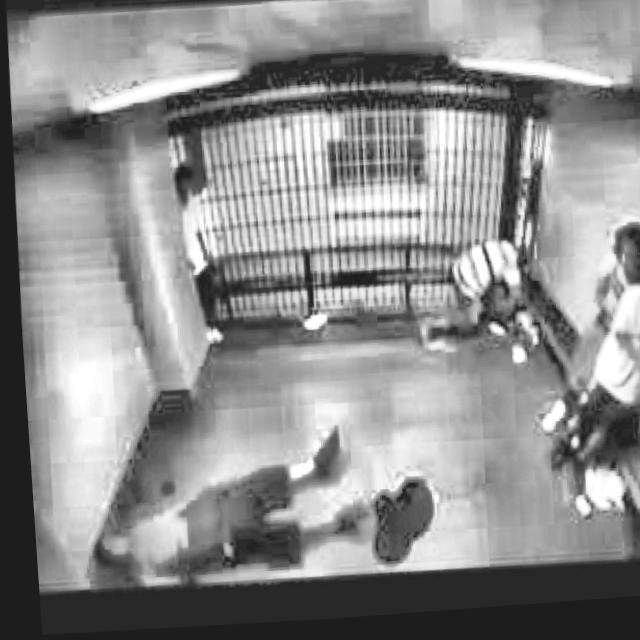Robbery: (50, 461, 439, 584), (558, 171, 640, 557), (404, 206, 574, 381), (152, 130, 278, 348)
